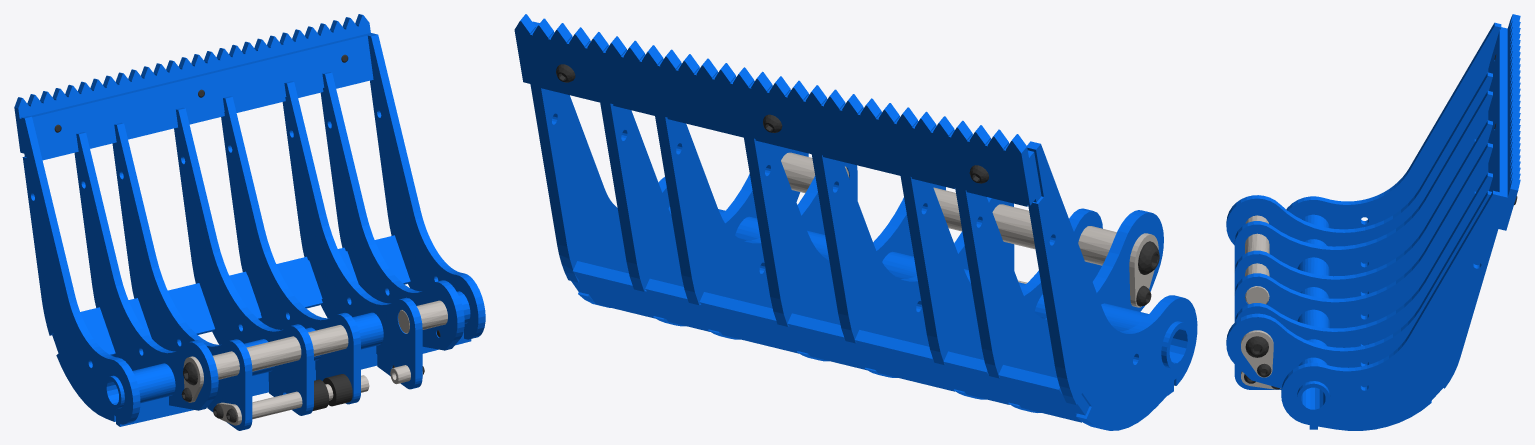
The model's file is gripper_claw_1_Mesh.obj.
3 renders of one model, left to right at view 1: azimuth 30°, elevation 25°; view 2: azimuth 150°, elevation 25°; view 3: azimuth 270°, elevation 25°, orthographic. The views are drawn at different scales.
Bounding box in the file's own units: 0.101 × 0.0679 × 0.0721.
